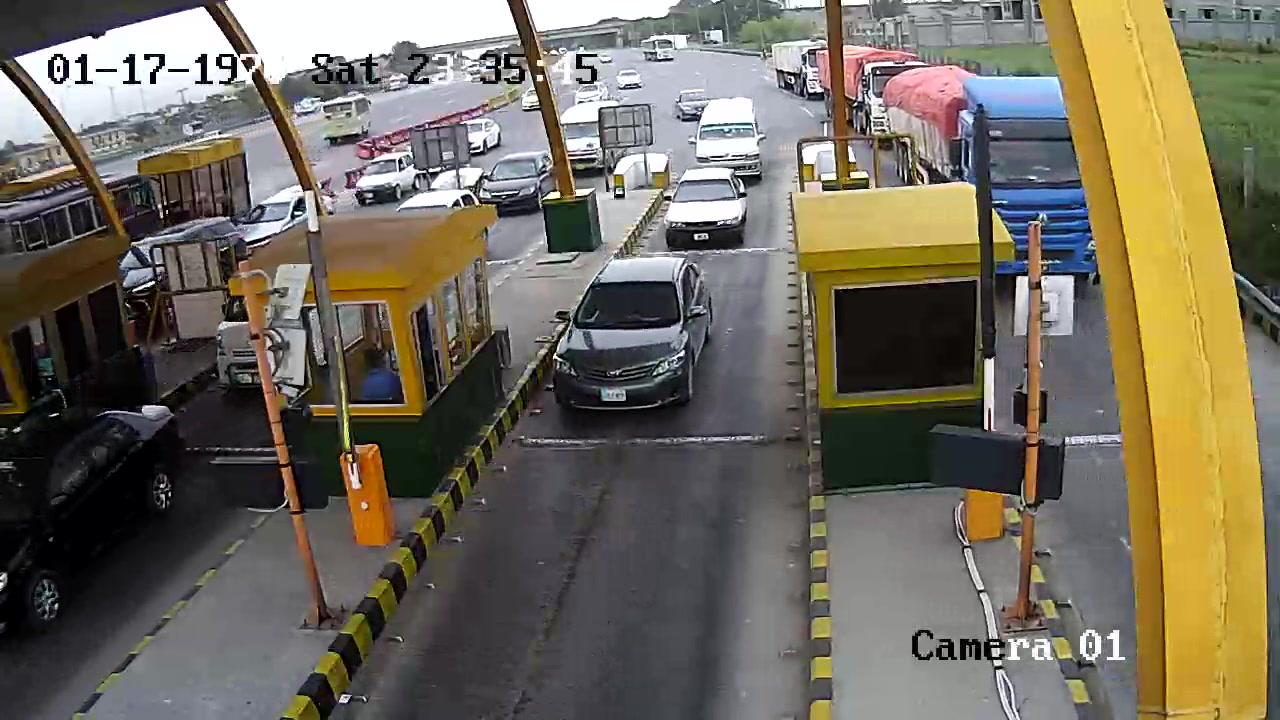F1: (547, 245, 719, 428)
